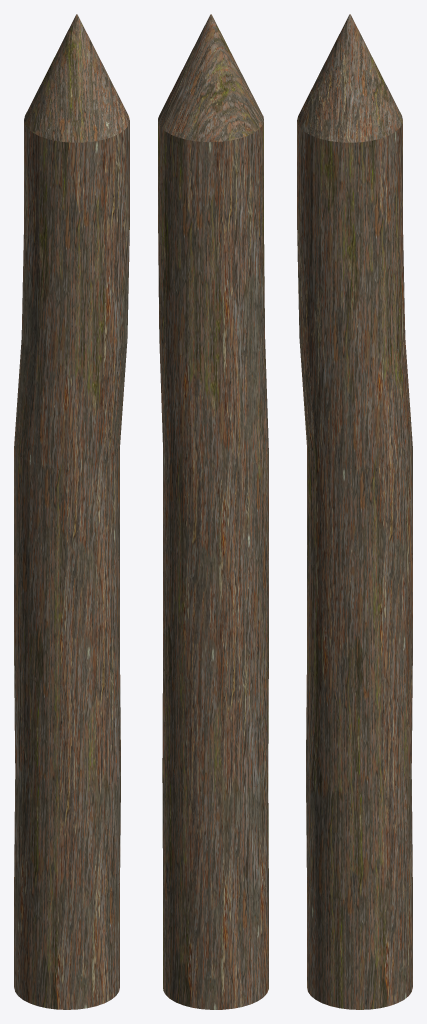
Rendered from estacamodel1.glb.
3 renders of one model, left to right at view 1: azimuth 90°, elevation 25°; view 2: azimuth 210°, elevation 25°; view 3: azimuth 270°, elevation 25°, orthographic.
Visible parts, largest first — view 1: Cilindro; view 2: Cilindro; view 3: Cilindro.
Boxes of the visible parts, <box> form: Cilindro: <box>14,14,129,1009</box>; Cilindro: <box>158,14,268,1009</box>; Cilindro: <box>297,14,412,1009</box>.
Size of the model in its own units: 1.12 by 11.28 by 1.22.
1 material, 1 textured.
